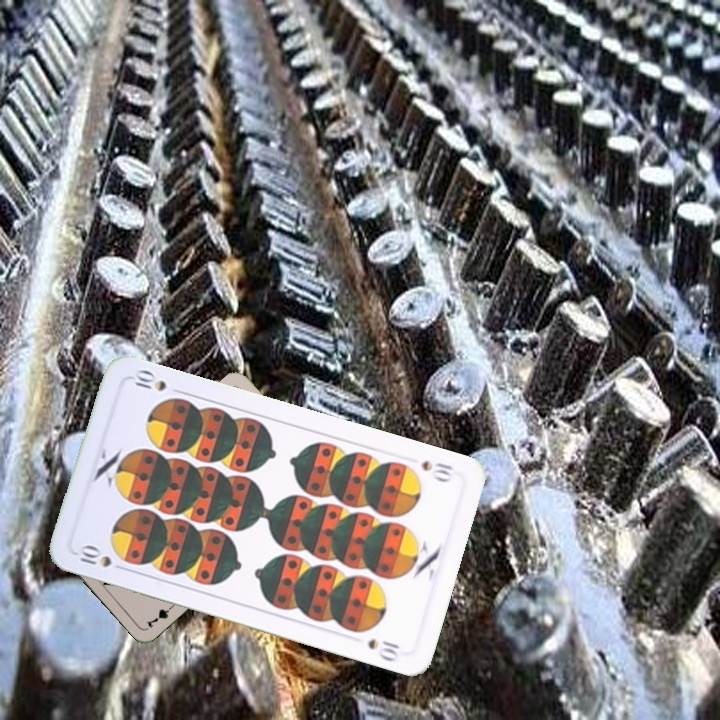G7: (142, 599, 178, 630)
S10: (72, 542, 115, 570), (417, 456, 456, 485)
